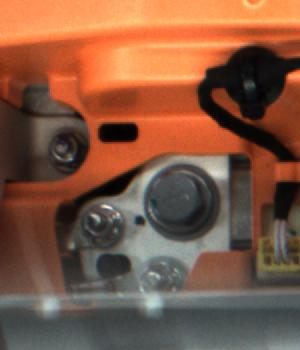nut_b: (145, 163, 224, 246)
screw_s: (39, 130, 92, 169), (77, 202, 110, 243), (140, 260, 180, 291)
